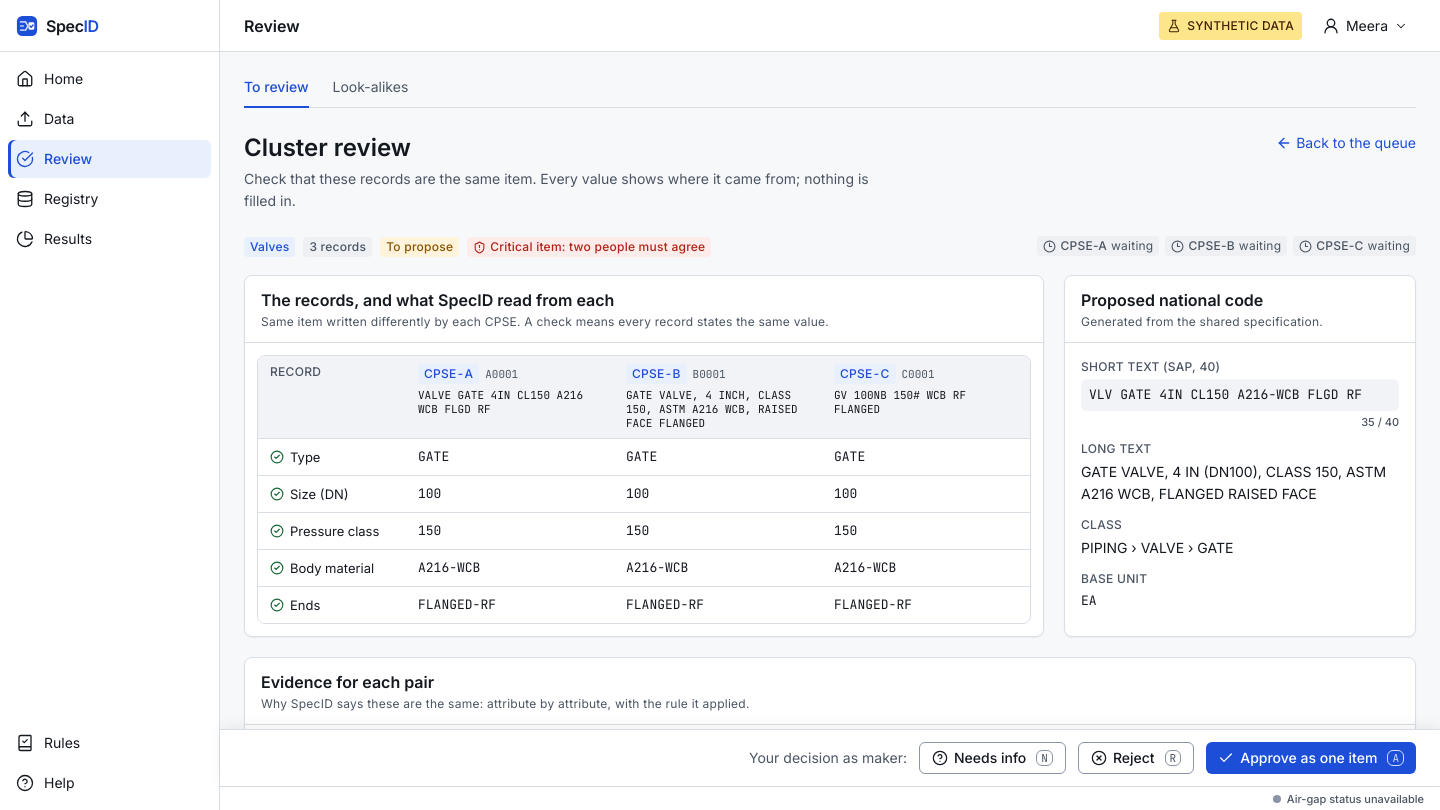
Test: S6 cluster review › shows the records side by side, the proposed code and only the maker's actions
Expected: the text "VLV GATE 4IN CL150 A216-WCB FLGD RF" is shown, [1081,378,1399,410]
Expected: the text "35 / 40" is shown, [1361,414,1399,428]
Click the button "Approve as one item A" at [1311, 758], box [1206,742,1416,774]
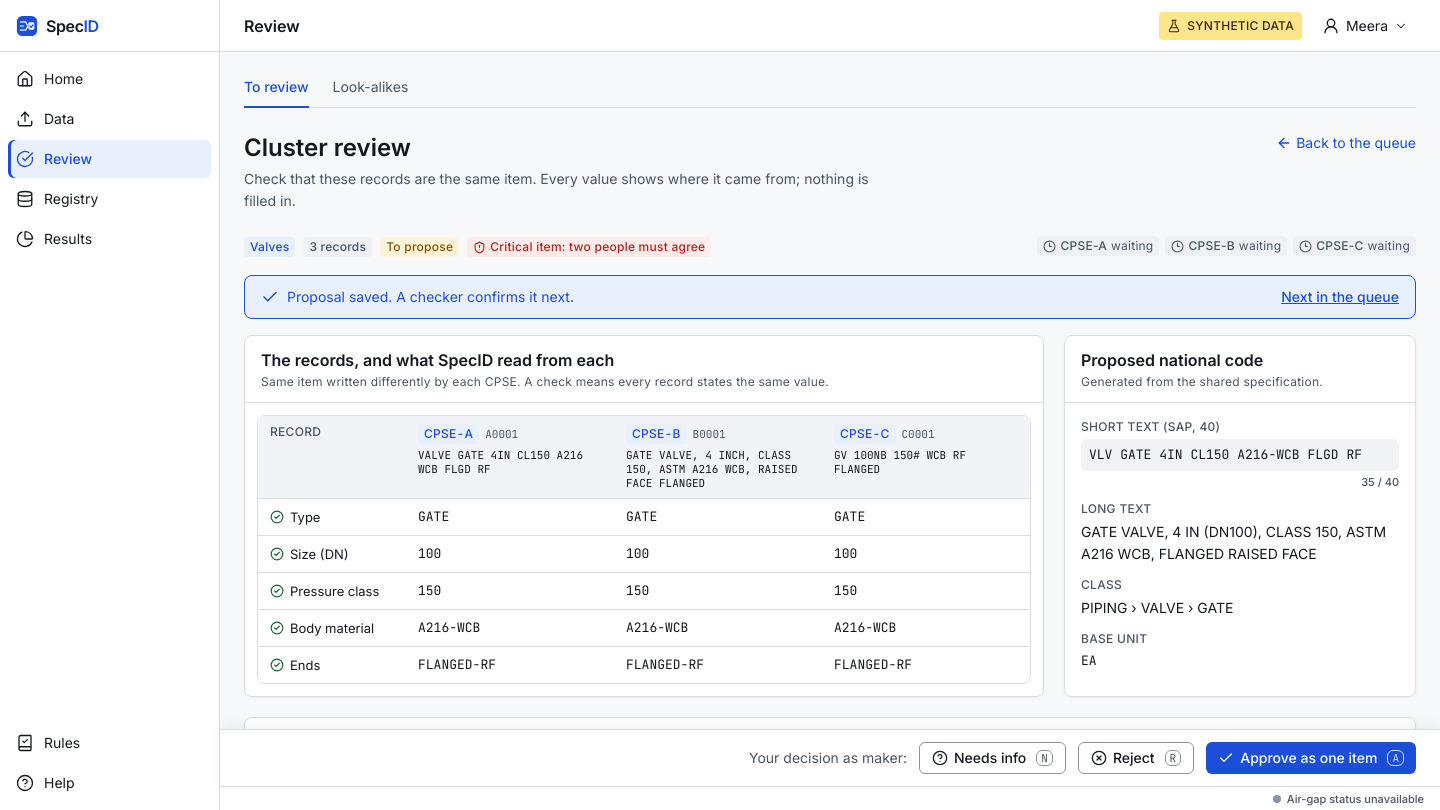
Expected: the text "Proposal saved. A checker confirms it next." is shown, [287,288,574,304]
